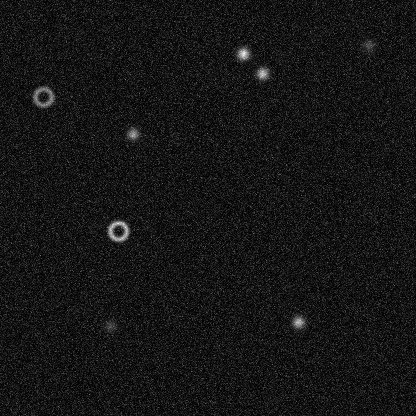Ring: (31, 84, 55, 108), (106, 218, 130, 242)
Spot: (235, 45, 251, 61), (254, 65, 270, 81), (290, 313, 306, 329), (101, 317, 117, 333), (125, 125, 141, 141), (360, 37, 376, 53)
